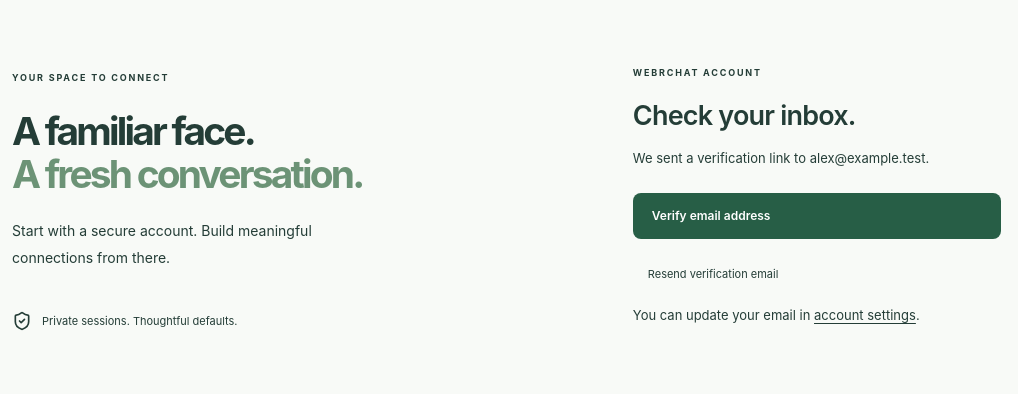
Scenario: authentication screens › rejects verification links pointing to another origin
Click the button "Verify email address" at x=711, y=216, box left=633, top=193, right=1001, bottom=239
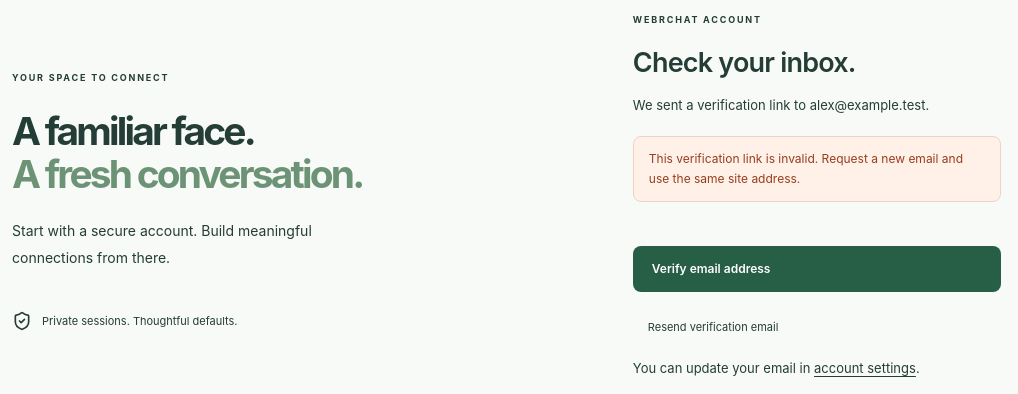
Now the message shows "invalid", box left=649, top=151, right=963, bottom=186
